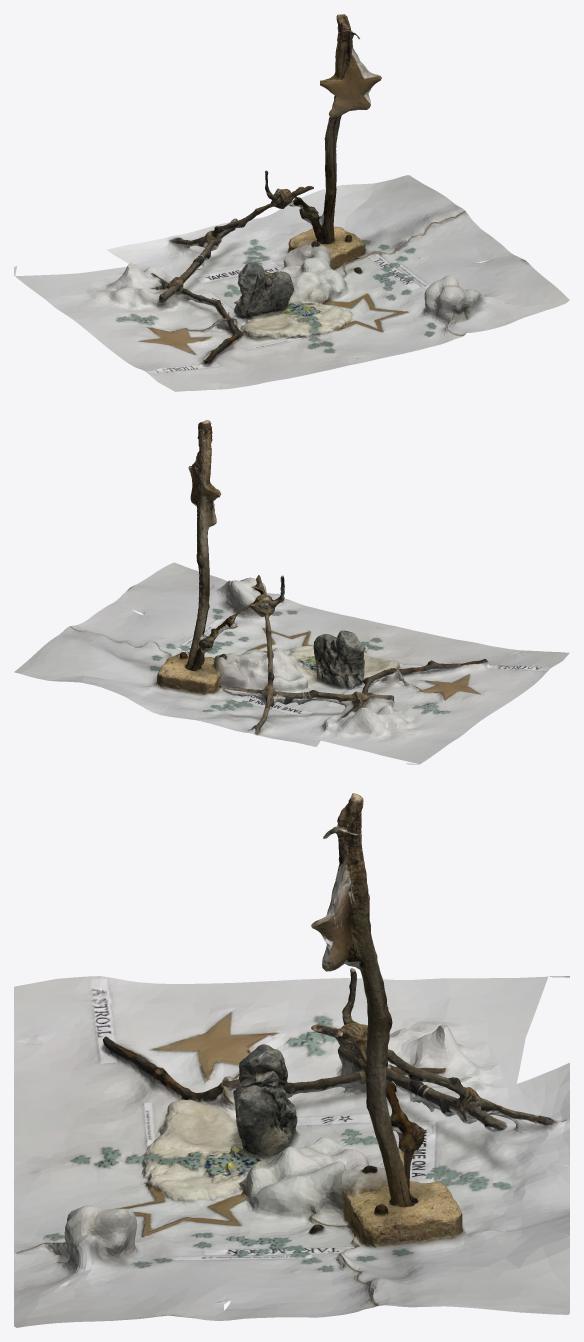
Rendered from scan_no_wall.glb.
3 views of the same model, one above another, from view 1: azimuth 30°, elevation 25°; view 2: azimuth 150°, elevation 25°; view 3: azimuth 270°, elevation 25° (orthographic). The views are drawn at different scales.
Size of the model in its own units: 1.17 by 0.7191 by 0.8139.
Materials: 1 (1 with a texture image).
